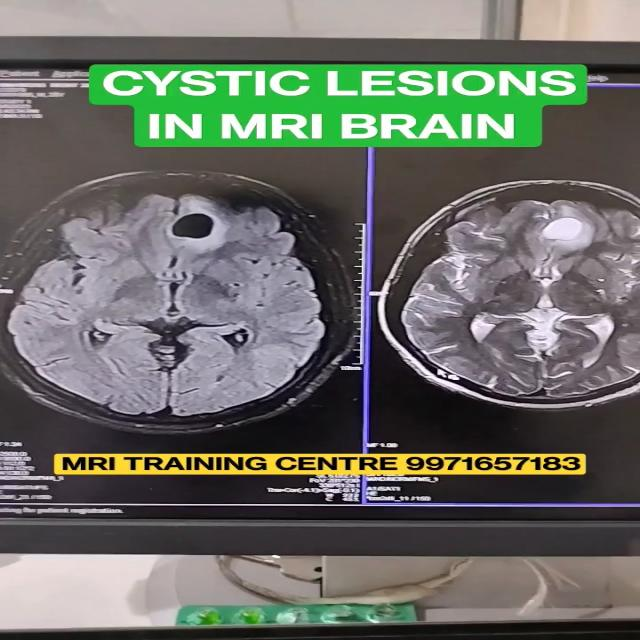tumor: (510, 197, 614, 258), (146, 202, 268, 252)
